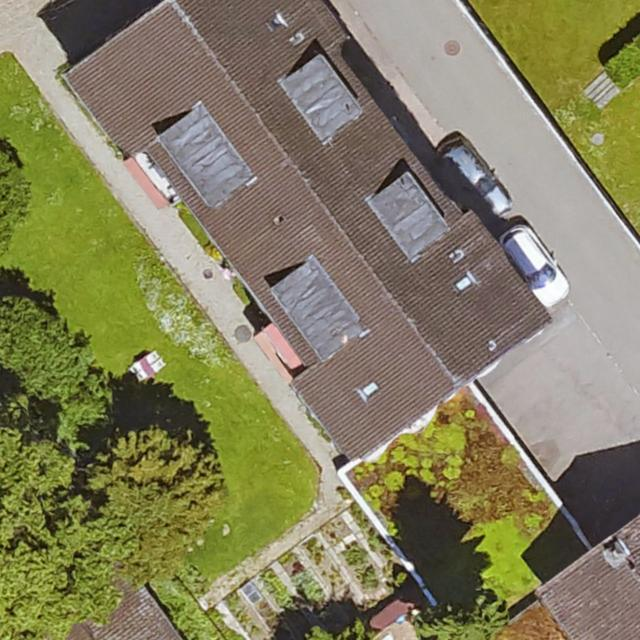tree: (0, 394, 96, 638), (87, 429, 220, 570), (0, 296, 87, 401), (0, 138, 29, 265), (413, 603, 508, 640)
